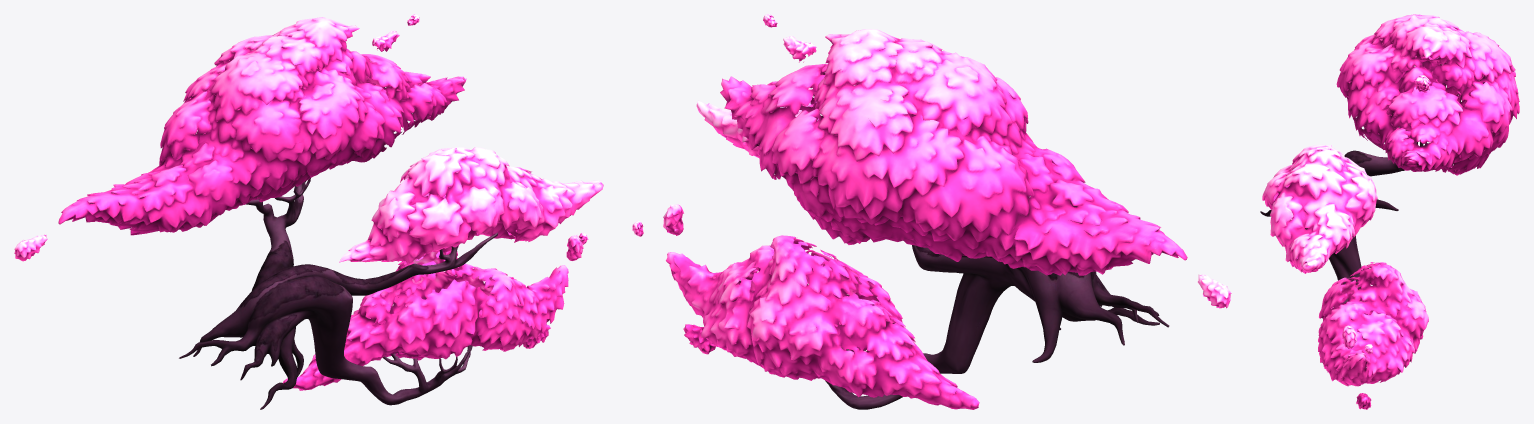
Rendered from sky_tree_01a_chaos_v35.glb.
The picture shows the model from 3 angles, left to right: view 1: azimuth 30°, elevation 25°; view 2: azimuth 150°, elevation 25°; view 3: azimuth 270°, elevation 25°; orthographic projection. The views are drawn at different scales.
Parts seen in each view (by area): view 1: tree_01a; view 2: tree_01a; view 3: tree_01a.
Part boxes in pixels (x1=…): tree_01a: x1=14, y1=14, x2=603, y2=409; tree_01a: x1=632, y1=14, x2=1231, y2=409; tree_01a: x1=1260, y1=14, x2=1519, y2=409.
Bounding box in the file's own units: 61.24 × 39.23 × 28.68.
2 materials, 2 textured.
